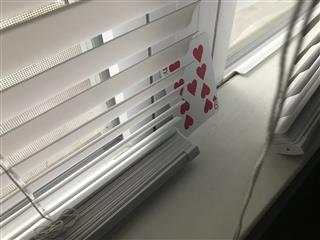NineOfHearts: (159, 31, 220, 137)
